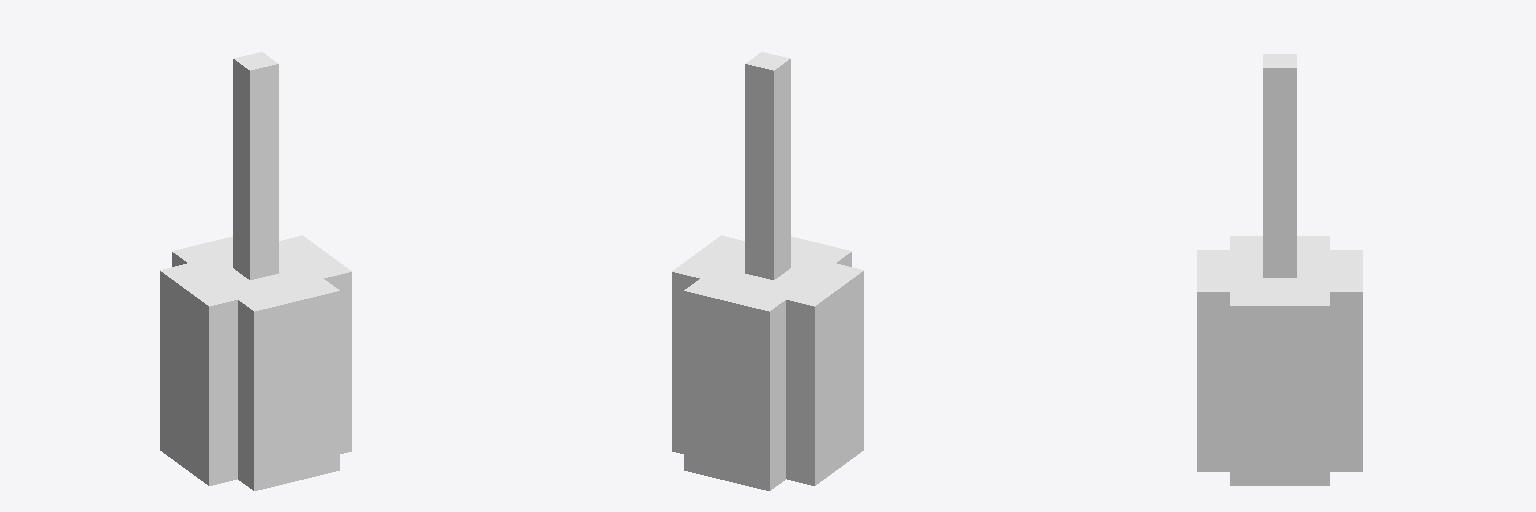
File: farm-22-butterchurn.obj
3 renders of one model, left to right at view 1: azimuth 30°, elevation 25°; view 2: azimuth 150°, elevation 25°; view 3: azimuth 270°, elevation 25°, orthographic.
Parts seen in each view (by area): view 1: butterchurn; view 2: butterchurn; view 3: butterchurn.
Part boxes in pixels (x1,y1,x2,y2): butterchurn: (160, 52, 351, 490); butterchurn: (672, 52, 863, 490); butterchurn: (1197, 54, 1362, 485).
Size of the model in its own units: 0.5 by 1.3 by 0.5.